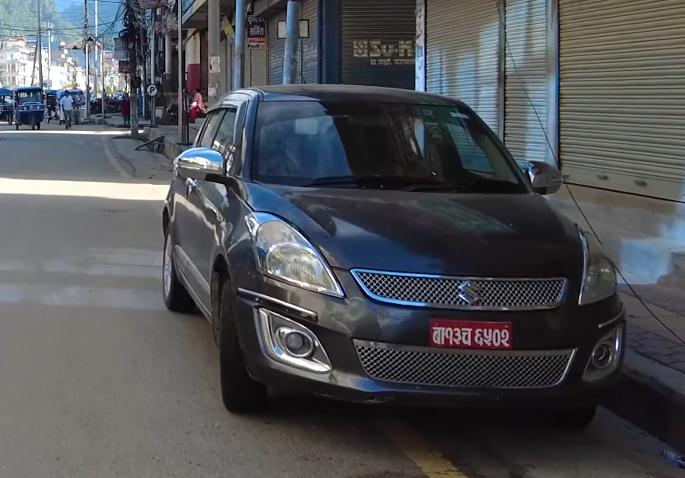car: (150, 74, 635, 415)
e-rickshaw: (11, 85, 46, 131)
